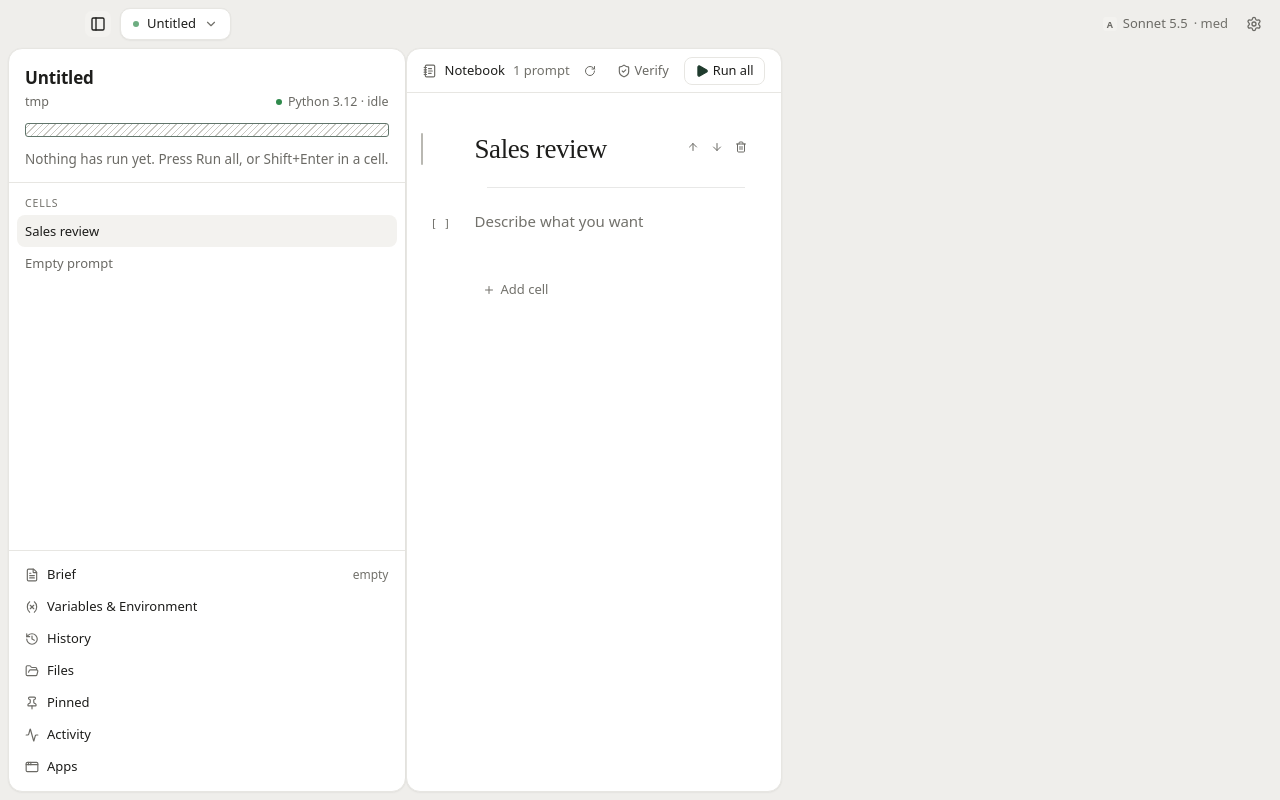
Test: folding tables › shows a table open when it is the whole result
The width and height of the screenshot is (1280, 800).
Type "Top customers" into the text box named "Prompt".
click(560, 221); type("Top customers")  # box [474,209,645,233]
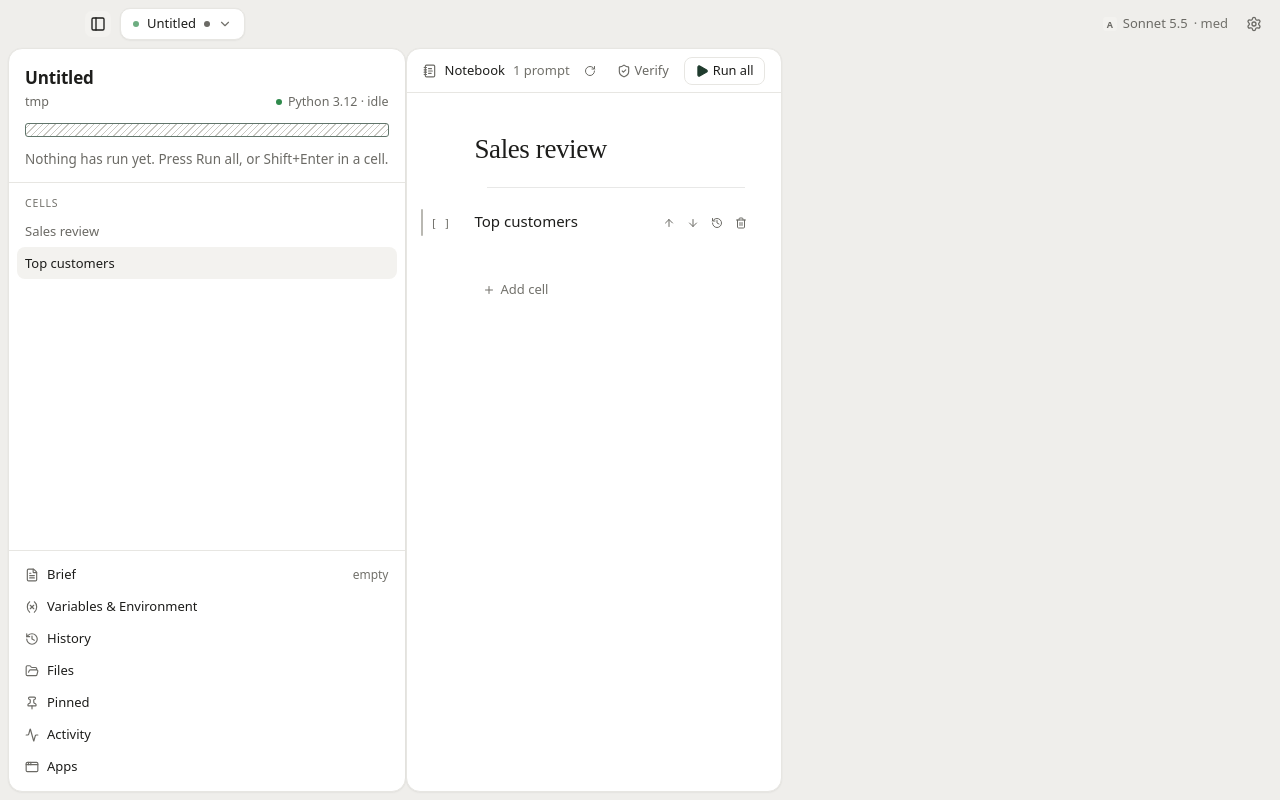
Click the button named "Run cell 1".
click(448, 224)  # box [430,212,466,236]
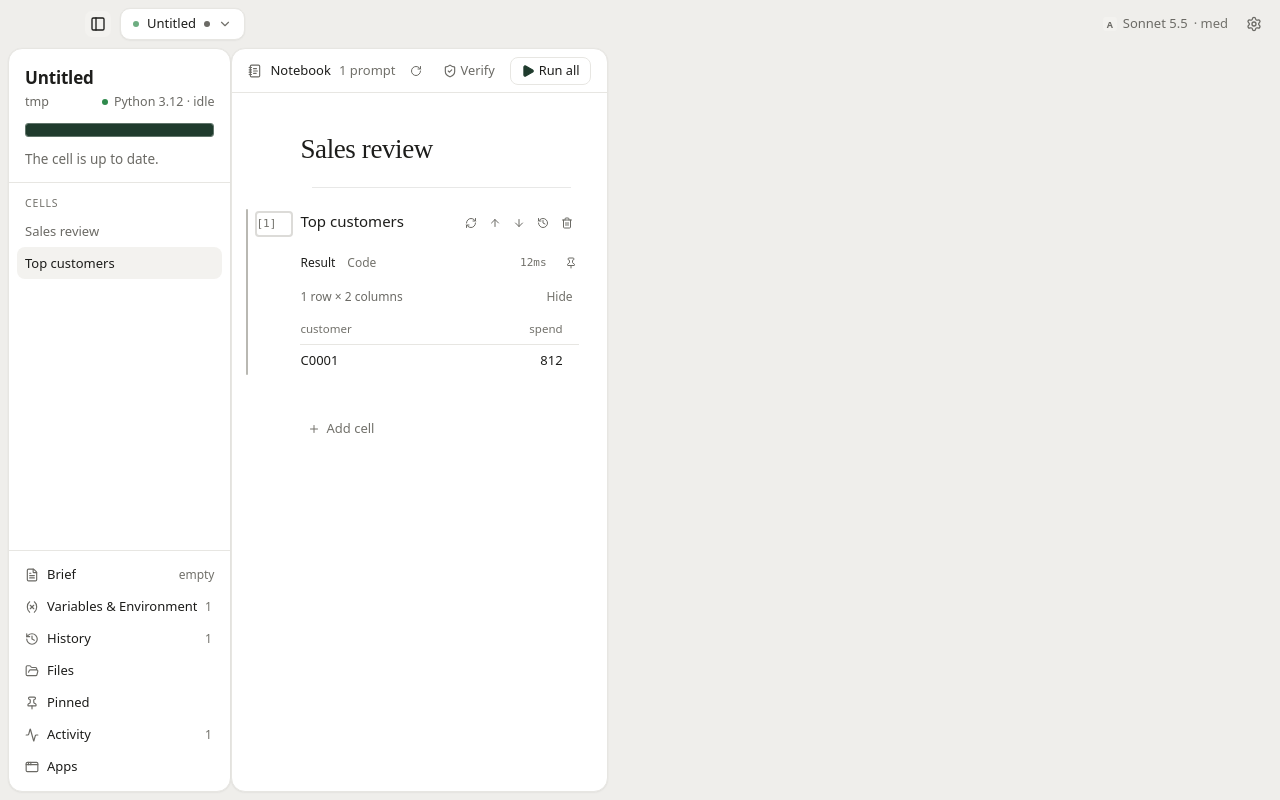
Expected: the cell "C0001" is shown, [300,344,461,375]
